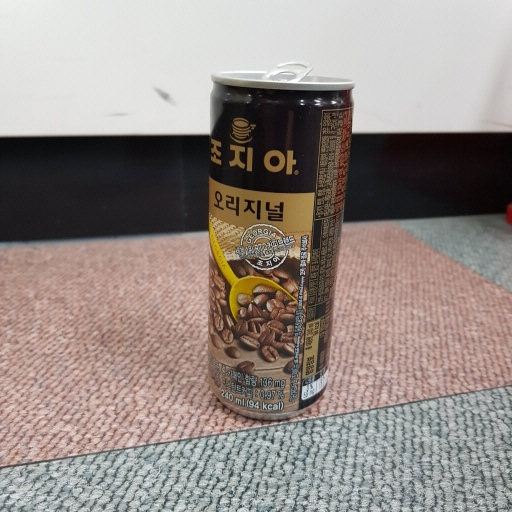Metal_0: (201, 61, 359, 419)
